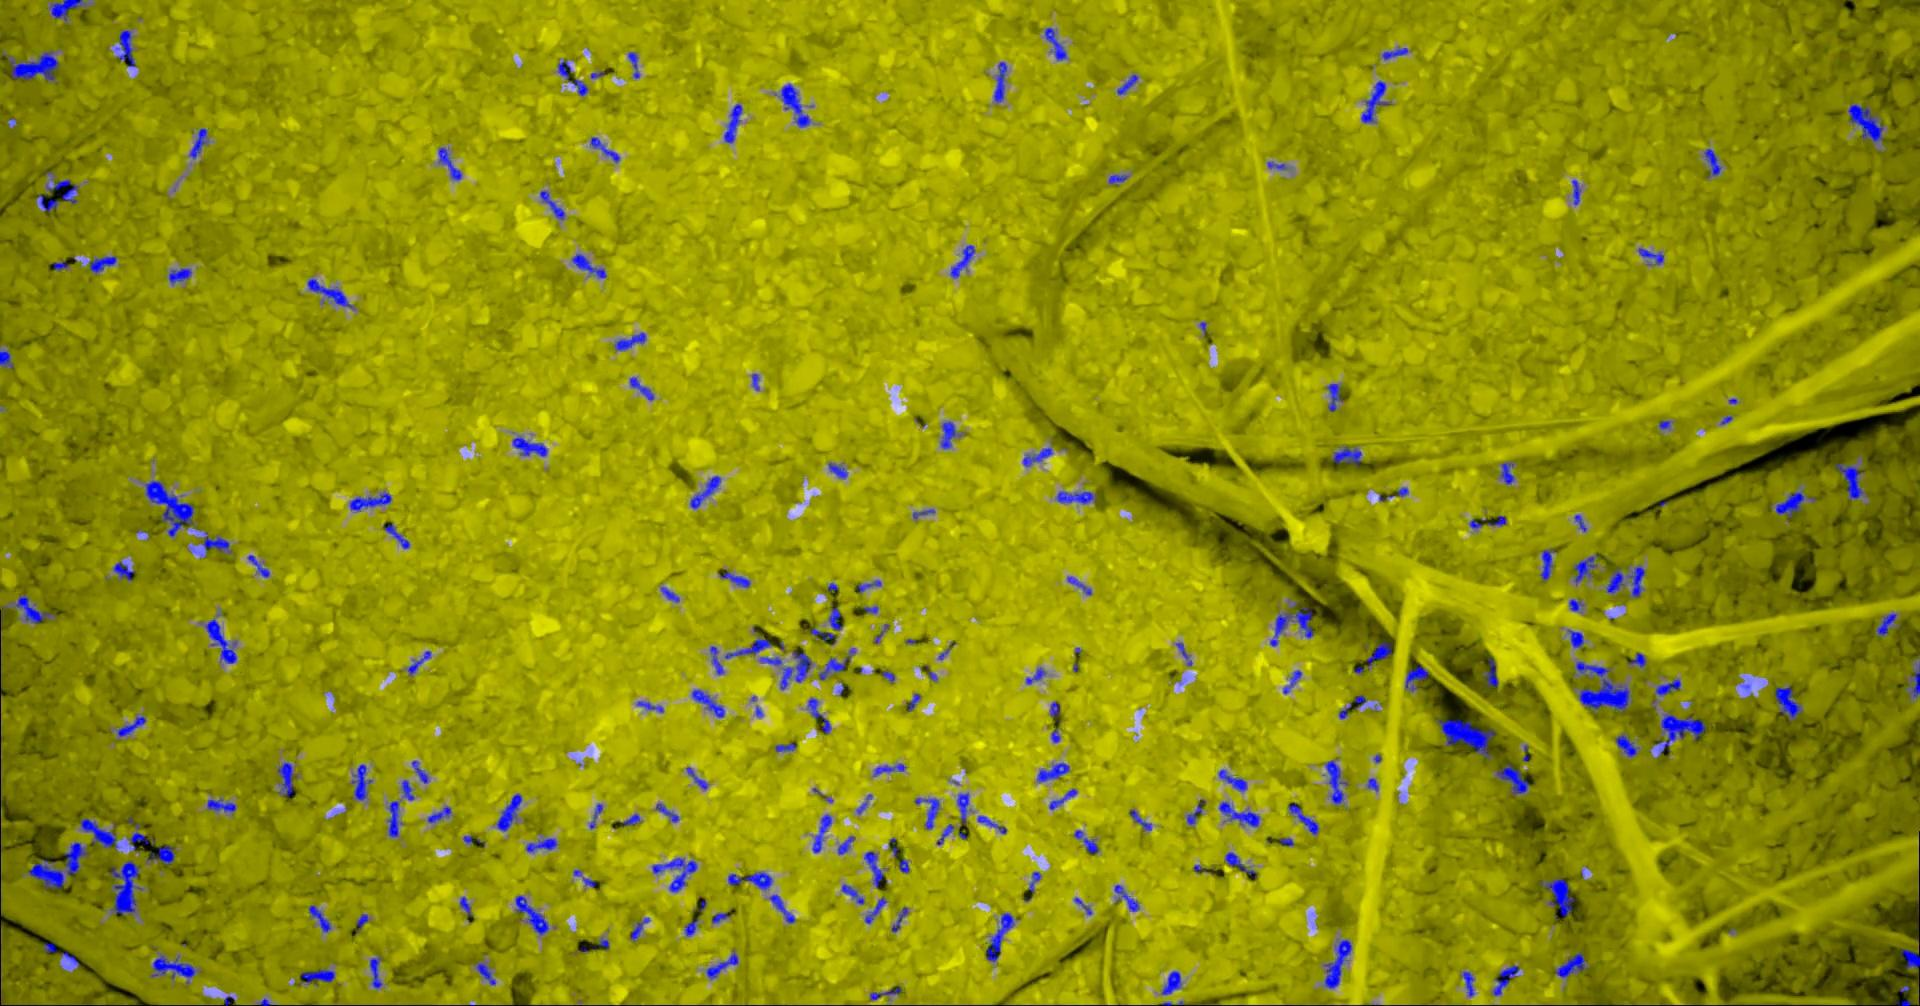ant: (27, 842, 88, 889), (1436, 718, 1495, 758), (1655, 713, 1705, 753), (1269, 606, 1313, 647), (109, 860, 142, 915), (985, 912, 1018, 962), (775, 83, 810, 127), (9, 50, 58, 80), (651, 857, 696, 890), (204, 619, 236, 663), (1323, 939, 1351, 988), (1848, 103, 1883, 141), (1540, 878, 1575, 917), (307, 278, 353, 307), (151, 954, 197, 983), (516, 895, 549, 935), (778, 650, 811, 688), (1606, 565, 1644, 597), (818, 648, 855, 680), (79, 818, 117, 848), (1360, 80, 1387, 122), (15, 594, 55, 622), (557, 60, 587, 95), (1835, 464, 1863, 500), (690, 475, 720, 508), (1288, 801, 1318, 835), (1775, 492, 1815, 517), (1324, 760, 1347, 803), (1774, 685, 1801, 721), (1218, 801, 1258, 826), (1496, 763, 1529, 793), (724, 638, 771, 658), (691, 688, 724, 716), (497, 793, 521, 831), (706, 951, 738, 979), (571, 253, 606, 278), (1224, 851, 1256, 878), (808, 697, 830, 733), (349, 492, 391, 511), (950, 244, 974, 277), (914, 796, 938, 829), (350, 763, 372, 800), (728, 871, 772, 889), (723, 103, 742, 144), (1556, 951, 1586, 977), (1492, 964, 1517, 995), (46, 179, 77, 203), (1573, 553, 1597, 584), (438, 147, 461, 180), (116, 29, 136, 66), (590, 136, 618, 163), (201, 531, 231, 555), (811, 814, 830, 852), (512, 436, 547, 456), (1044, 27, 1065, 60), (1112, 884, 1139, 911), (538, 191, 564, 218), (1338, 694, 1368, 718), (770, 894, 794, 923), (863, 851, 883, 887), (50, 0, 83, 20), (1036, 762, 1069, 782), (1218, 768, 1247, 791), (277, 762, 296, 796), (382, 523, 409, 547), (130, 823, 154, 850), (940, 420, 963, 448), (1404, 666, 1429, 691), (1073, 829, 1098, 854), (863, 897, 886, 923), (1048, 788, 1076, 809), (309, 904, 330, 932), (116, 715, 145, 735), (1366, 641, 1390, 666), (189, 127, 208, 158), (615, 332, 645, 351), (1331, 446, 1361, 465), (1905, 657, 1919, 697), (300, 968, 334, 984), (1022, 447, 1051, 466), (146, 845, 175, 864), (629, 376, 653, 399), (408, 650, 430, 674), (387, 799, 401, 837), (1539, 549, 1556, 580), (719, 570, 750, 587), (684, 766, 707, 789), (977, 815, 1006, 833), (993, 61, 1006, 102), (1481, 657, 1497, 687), (248, 554, 269, 577), (1615, 734, 1638, 756), (1161, 970, 1181, 995), (1057, 490, 1095, 503), (1065, 575, 1091, 594), (1186, 799, 1205, 824), (1703, 149, 1719, 178), (1876, 614, 1896, 636), (841, 884, 863, 904), (88, 255, 116, 272), (1326, 384, 1342, 412), (1283, 669, 1302, 694), (1638, 246, 1663, 264), (524, 838, 556, 852), (1129, 809, 1150, 829), (112, 561, 135, 580), (655, 803, 678, 822), (630, 917, 649, 940), (476, 962, 495, 984), (1175, 641, 1192, 666), (956, 793, 970, 823), (1655, 678, 1680, 695), (872, 763, 905, 776), (1116, 74, 1137, 94), (709, 645, 723, 674), (206, 796, 235, 810), (36, 193, 58, 211), (168, 267, 190, 285), (891, 907, 907, 932), (1900, 948, 1919, 968), (411, 760, 428, 782), (869, 987, 902, 998), (370, 956, 381, 988), (1382, 46, 1407, 60), (828, 603, 842, 629), (427, 807, 450, 822), (636, 700, 663, 713), (589, 803, 602, 829), (837, 835, 855, 854), (810, 627, 834, 641), (1025, 667, 1045, 683), (936, 823, 952, 843), (1462, 970, 1474, 996), (827, 462, 847, 478), (857, 579, 881, 592), (458, 895, 471, 920), (627, 51, 639, 77), (1500, 462, 1514, 484), (400, 779, 414, 800), (1567, 629, 1583, 647), (660, 586, 679, 601), (1628, 652, 1644, 667), (1029, 871, 1040, 892), (684, 920, 698, 936), (759, 655, 781, 666), (1571, 180, 1580, 205), (0, 351, 13, 367), (907, 694, 919, 710), (1487, 514, 1506, 525), (1568, 598, 1583, 611), (623, 813, 639, 826), (356, 913, 368, 929), (775, 742, 795, 751), (711, 912, 729, 922), (898, 857, 909, 873), (1109, 174, 1128, 183), (1049, 701, 1059, 716), (1368, 777, 1378, 791), (43, 942, 56, 951)
